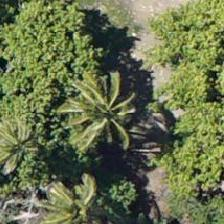coconut_tree: (59, 66, 149, 156), (35, 160, 125, 223), (0, 101, 58, 191)
